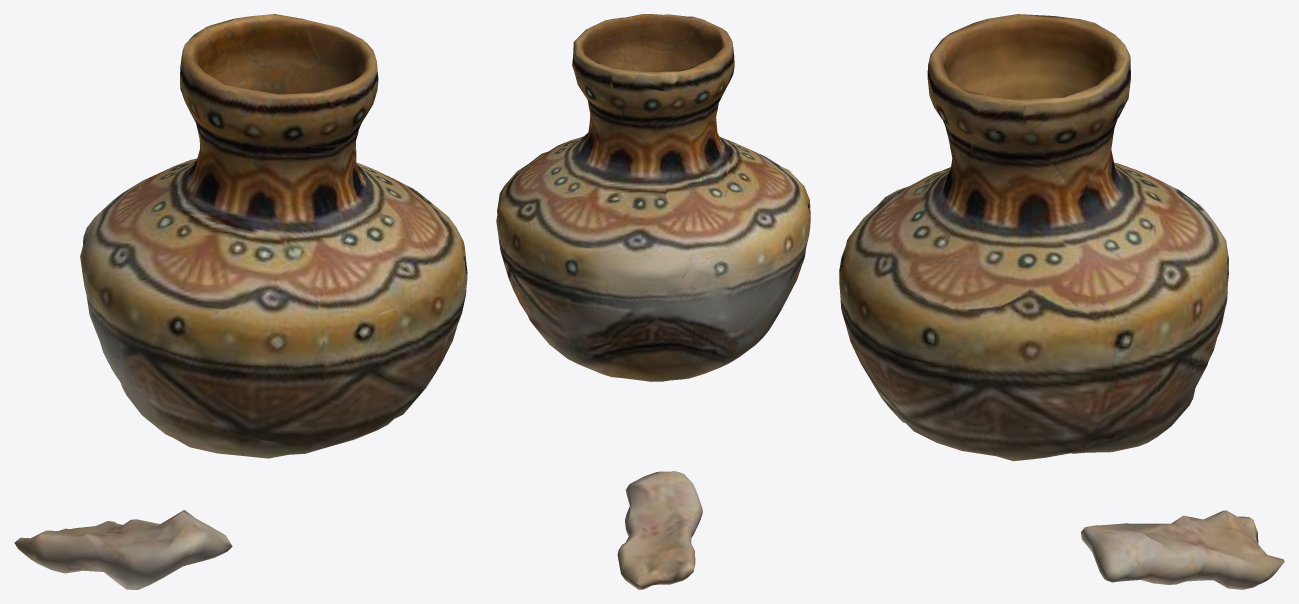
File: hall.glb
3 views of the same model, side by side, from view 1: azimuth 30°, elevation 25°; view 2: azimuth 150°, elevation 25°; view 3: azimuth 270°, elevation 25° (orthographic). The views are drawn at different scales.
Size of the model in its own units: 0.4839 by 0.7788 by 0.5464.
1 material, 1 textured.
